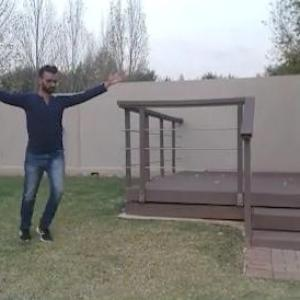takeoff: (0, 63, 135, 238)
